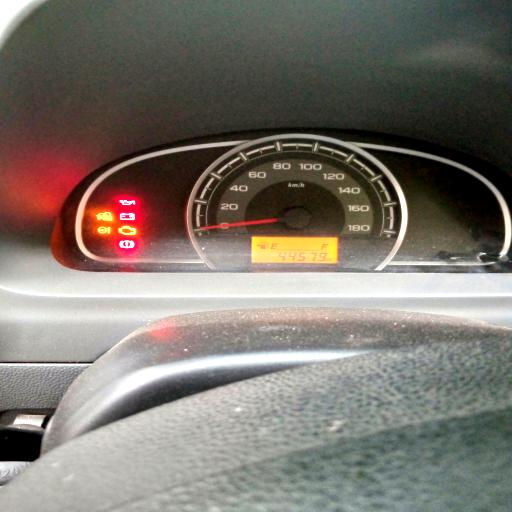brake_system_fault: (119, 240, 135, 248)
car_closed: (96, 211, 112, 222)
check_engine: (118, 225, 136, 236)
oil: (119, 198, 136, 206)
vehicle_charging: (120, 213, 135, 220)
